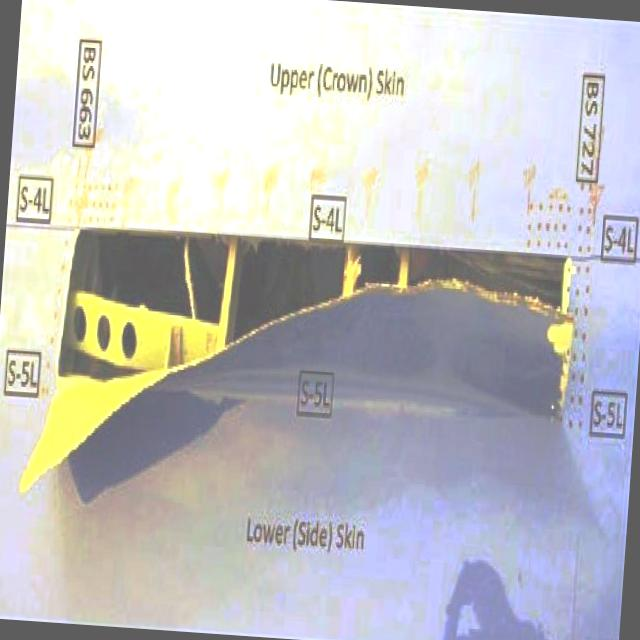crack: (18, 221, 581, 535)
